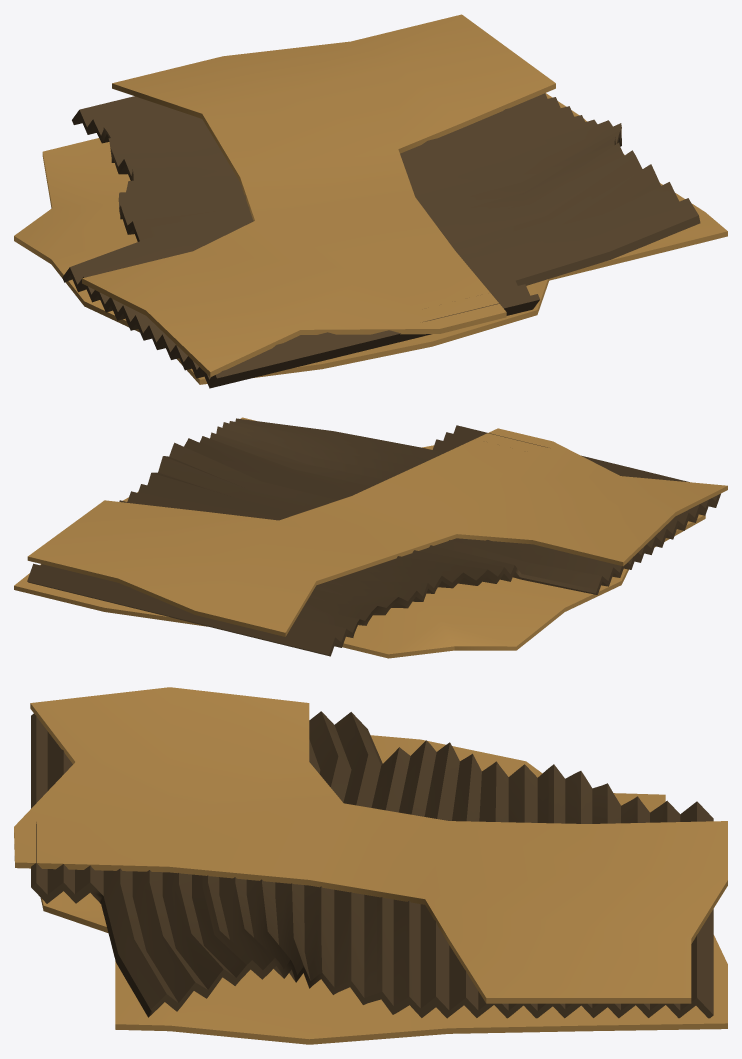
The model's file is Cardboard4.fbx.
3 views of the same model, one above another, from view 1: azimuth 30°, elevation 25°; view 2: azimuth 150°, elevation 25°; view 3: azimuth 270°, elevation 25° (orthographic). The views are drawn at different scales.
Visible parts, largest first — view 1: Top, Middle, Bottom; view 2: Top, Middle, Bottom; view 3: Top, Middle, Bottom.
Part boxes in pixels (box(x1,y1,x2,y2)): Top: box(82, 14, 555, 377); Middle: box(62, 93, 700, 388); Bottom: box(14, 93, 727, 384); Top: box(27, 428, 727, 636); Middle: box(27, 418, 720, 656); Bottom: box(14, 417, 705, 658); Top: box(14, 687, 727, 1003); Middle: box(31, 711, 713, 1018); Bottom: box(40, 735, 727, 1044).
Size of the model in its own units: 15.42 by 1.67 by 15.53.
